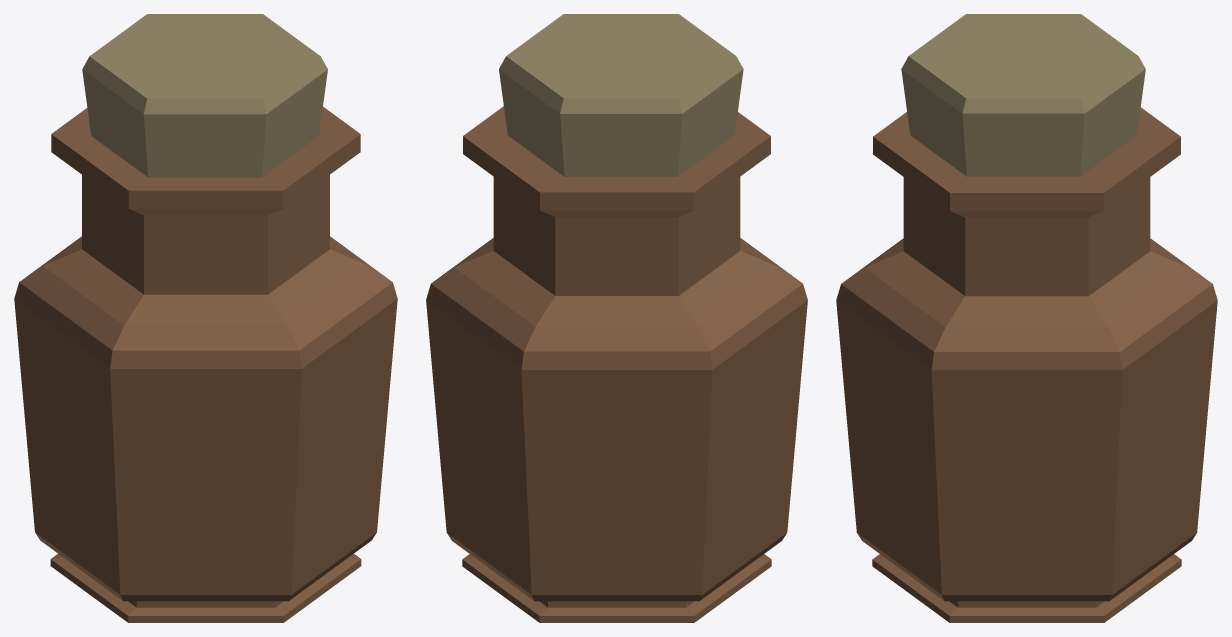
The model's file is Jar5.fbx.
3 views of the same model, side by side, from view 1: azimuth 30°, elevation 25°; view 2: azimuth 150°, elevation 25°; view 3: azimuth 270°, elevation 25° (orthographic).
Parts seen in each view (by area): view 1: Cylinder.016, Cylinder.020; view 2: Cylinder.016, Cylinder.020; view 3: Cylinder.016, Cylinder.020.
Boxes of the visible parts, left/top/right/bottom form: Cylinder.016: left=14, top=107, right=397, bottom=622; Cylinder.020: left=82, top=14, right=327, bottom=177; Cylinder.016: left=426, top=106, right=807, bottom=622; Cylinder.020: left=499, top=14, right=743, bottom=176; Cylinder.016: left=836, top=107, right=1217, bottom=622; Cylinder.020: left=901, top=14, right=1145, bottom=176.
Size of the model in its own units: 3.86 by 6.56 by 4.46.
